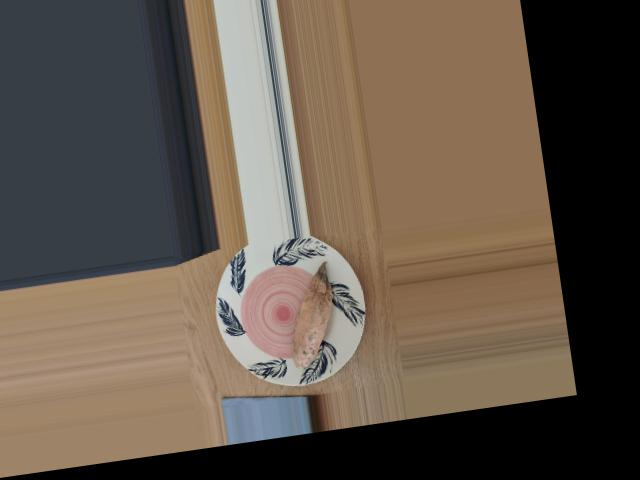sweet_potato: (278, 271, 341, 363)
